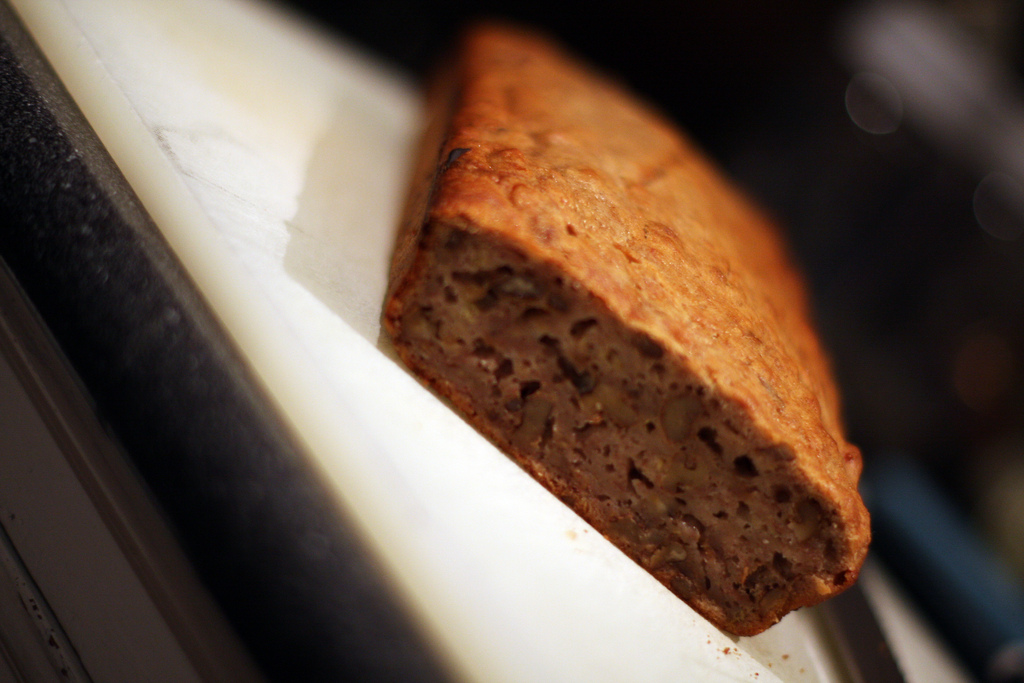slice of bread: (347, 154, 873, 642)
